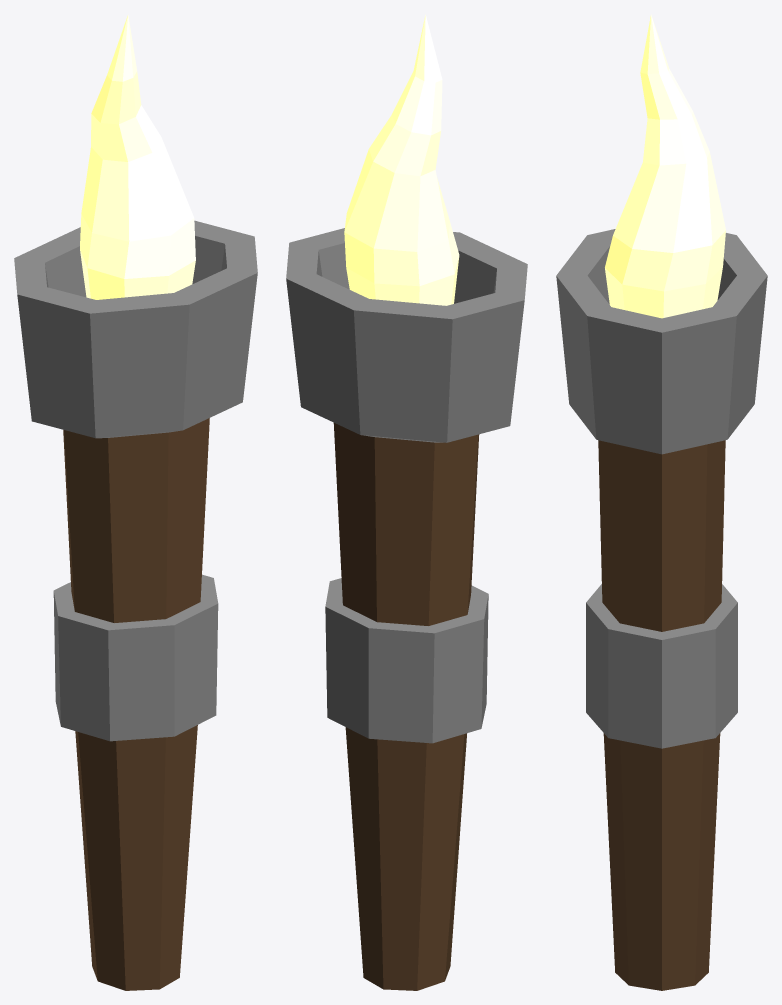
The model's file is torch.glb.
The picture shows the model from 3 angles, left to right: view 1: azimuth 30°, elevation 25°; view 2: azimuth 150°, elevation 25°; view 3: azimuth 270°, elevation 25°; orthographic projection.
Visible parts, largest first — view 1: Cylinder; view 2: Cylinder; view 3: Cylinder.
Part boxes in pixels (<box>): Cylinder: <box>14,14,257,990</box>; Cylinder: <box>286,14,527,990</box>; Cylinder: <box>556,14,767,990</box>.
Size of the model in its own units: 2.1 by 8.17 by 1.64.
